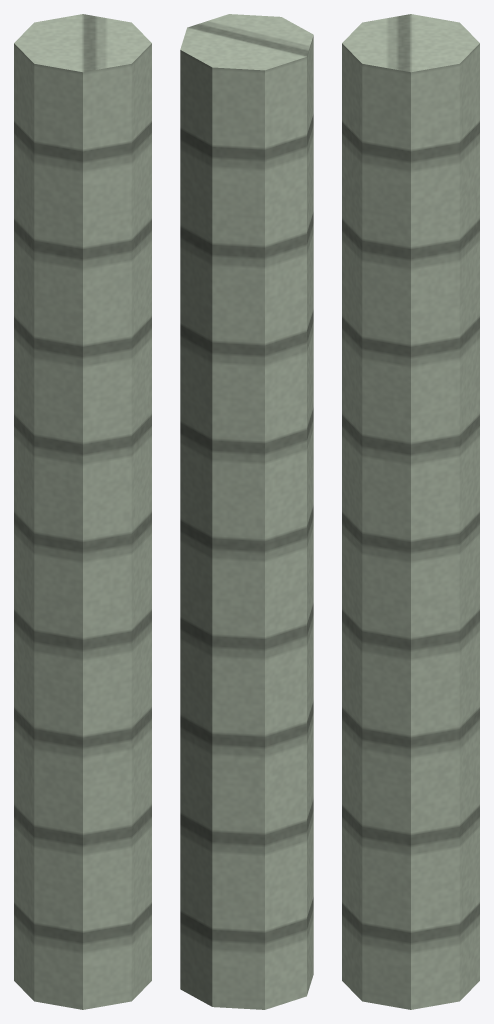
The model's file is parking_meter.glb.
3 views of the same model, side by side, from view 1: azimuth 90°, elevation 25°; view 2: azimuth 150°, elevation 25°; view 3: azimuth 270°, elevation 25° (orthographic).
Parts seen in each view (by area): view 1: parking_meter-col; view 2: parking_meter-col; view 3: parking_meter-col.
Part boxes in pixels (<box>): parking_meter-col: <box>14,14,151,1009</box>; parking_meter-col: <box>180,14,313,1009</box>; parking_meter-col: <box>342,14,479,1009</box>.
Size of the model in its own units: 0.16 by 1.2 by 0.16.
1 material, 1 textured.
